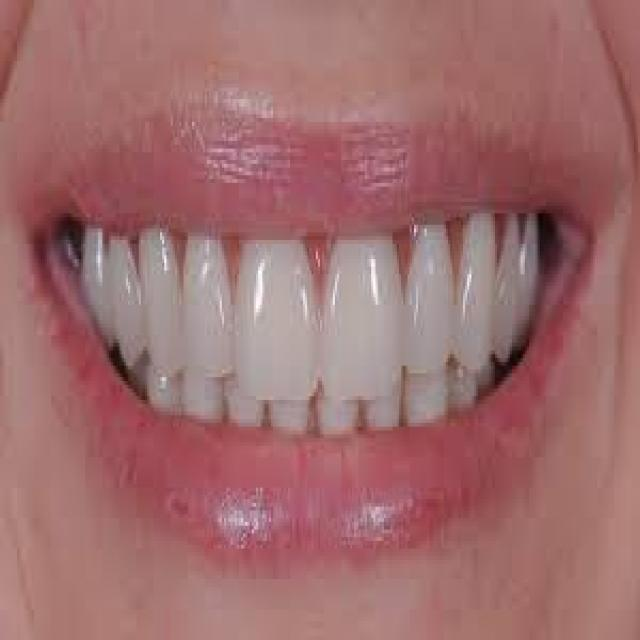tooth: (243, 240, 314, 396), (339, 244, 395, 396), (183, 236, 234, 377), (141, 232, 188, 374), (408, 221, 454, 362), (109, 229, 145, 354), (459, 221, 484, 366), (81, 225, 113, 331), (491, 213, 512, 354), (407, 377, 446, 427), (181, 373, 222, 419), (271, 381, 309, 430), (228, 385, 260, 442), (446, 366, 482, 415), (369, 396, 399, 438), (150, 374, 182, 412), (523, 210, 533, 328), (318, 400, 356, 430)
